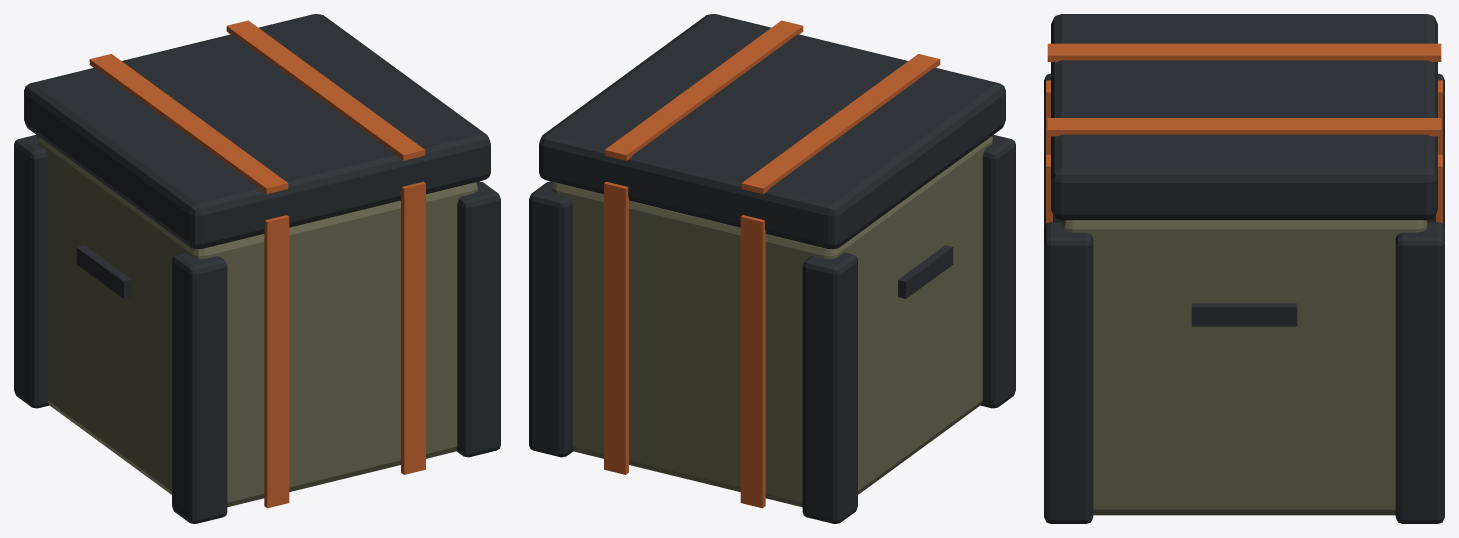
The model's file is prop_cargo_case.glb.
3 renders of one model, left to right at view 1: azimuth 30°, elevation 25°; view 2: azimuth 150°, elevation 25°; view 3: azimuth 270°, elevation 25°, orthographic. The views are drawn at different scales.
Visible parts, largest first — view 1: body, lid, guard-11, guard11, guard-1-1, strap_side01, strap_side11, strap1, strap0, handle-1; view 2: body, lid, guard-1-1, guard1-1, guard-11, strap_side0-1, strap_side1-1, strap1, strap0, handle-1; view 3: body, lid, guard1-1, guard11, strap0, strap1, handle1.
Part boxes in pixels (x1,y1,x2,y2): body: (37,136,477,507); lid: (24,14,490,249); guard-11: (172,252,227,523); guard11: (456,181,500,457); guard-1-1: (14,134,49,408); strap_side01: (264,215,289,508); strap_side11: (401,181,425,474); strap1: (226,20,425,160); strap0: (89,54,288,194); handle-1: (76,245,131,298); body: (552,136,992,507); lid: (539,14,1005,249); guard-1-1: (802,252,857,523); guard1-1: (529,181,573,457); guard-11: (980,134,1015,408); strap_side0-1: (740,215,765,508); strap_side1-1: (604,181,628,474); strap1: (604,20,803,160); strap0: (741,54,940,194); handle-1: (898,245,953,298); body: (1061,220,1427,515); lid: (1051,14,1437,220); guard1-1: (1395,222,1444,523); guard11: (1044,222,1093,523); strap0: (1047,43,1441,61); strap1: (1047,118,1441,136); handle1: (1191,303,1297,326).
Size of the model in its own units: 1.15 by 1.12 by 1.14.
